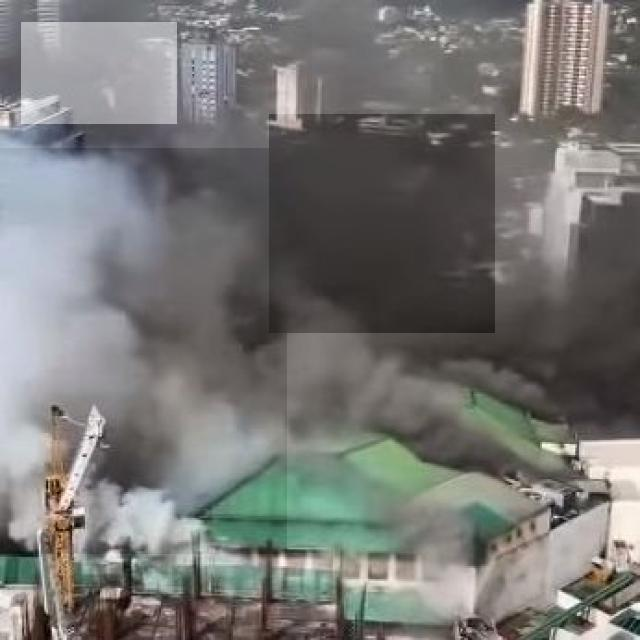Smoke: (0, 148, 287, 554), (269, 114, 495, 333), (21, 22, 178, 124), (312, 8, 431, 110)
